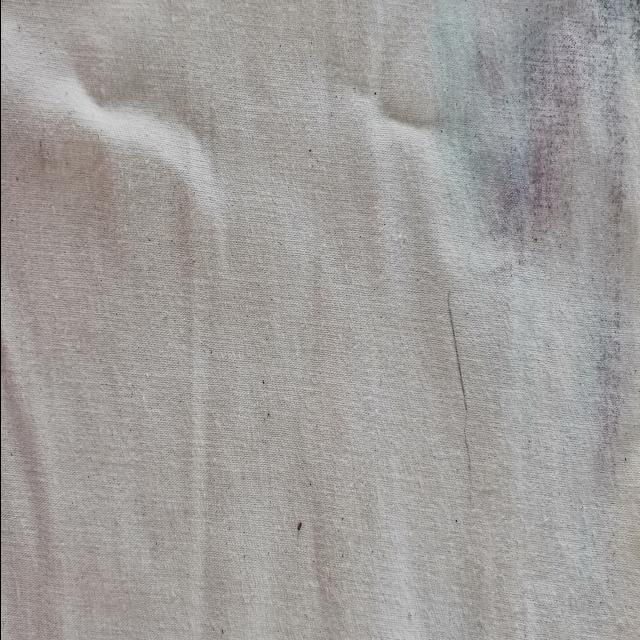taaaches: (478, 8, 640, 578), (440, 272, 470, 484)
